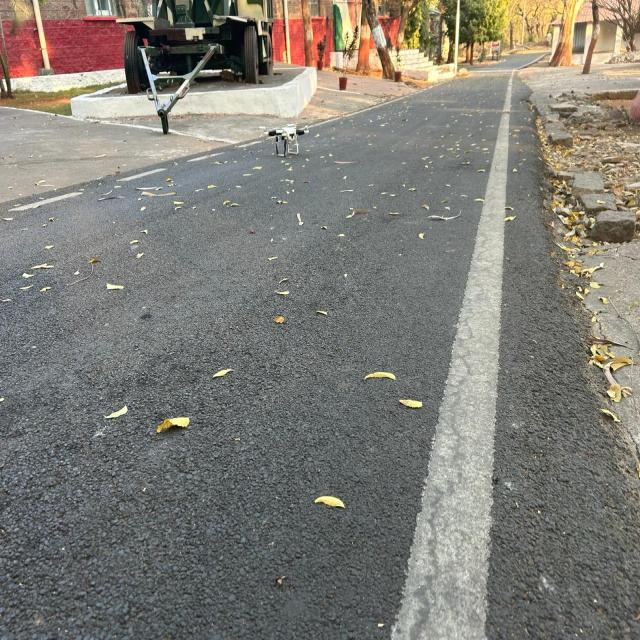drone: (258, 100, 317, 176)
